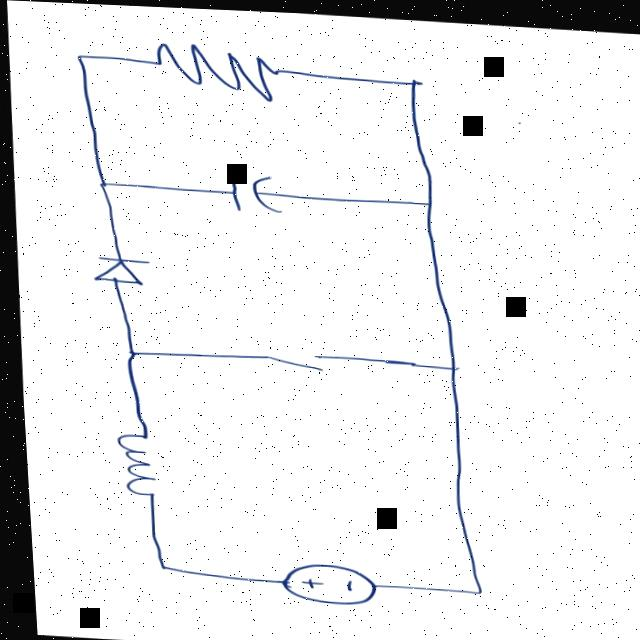capacitor: (189, 151, 323, 220)
diode: (66, 246, 163, 295)
inductor: (87, 410, 184, 512)
resistor: (137, 23, 320, 108)
source: (254, 558, 389, 609)
switch: (216, 330, 363, 386)
